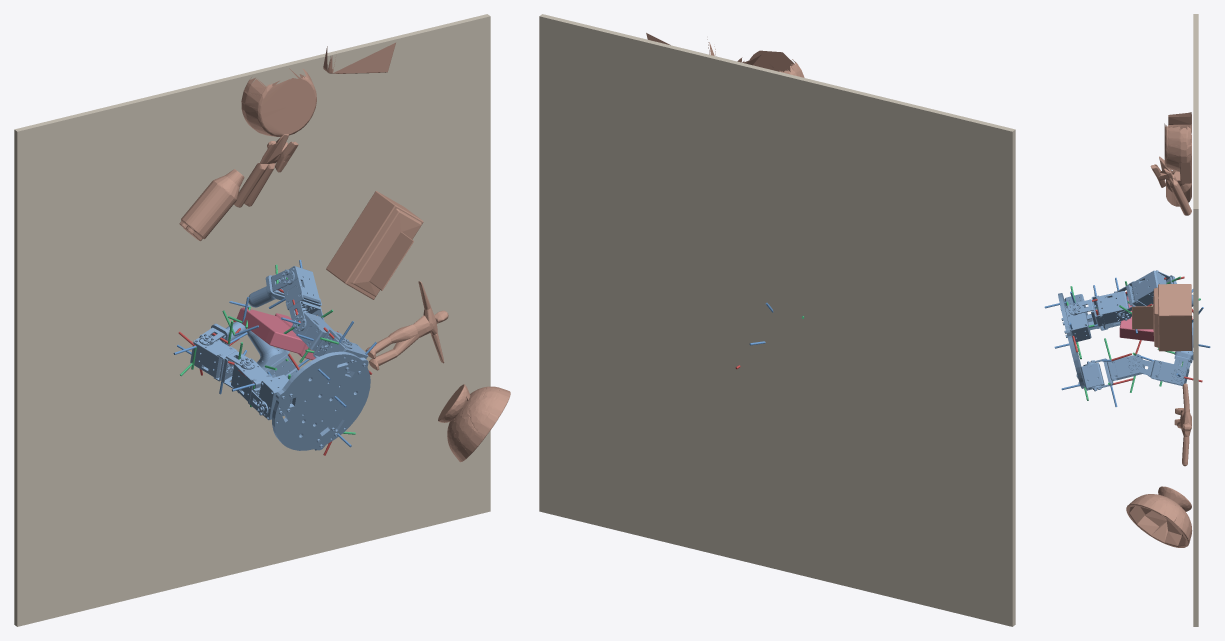
The picture shows the model from 3 angles, left to right: view 1: azimuth 30°, elevation 25°; view 2: azimuth 150°, elevation 25°; view 3: azimuth 270°, elevation 25°; orthographic projection. The views are drawn at different scales.
Visible parts, largest first — view 1: environment, hand, local_object_006, local_object_001, local_object_003, local_object_004, local_object_005, target_object, local_object_002, local_object_000; view 2: environment, local_object_001; view 3: hand, environment, local_object_006, local_object_003, local_object_001, local_object_002, local_object_005, target_object, local_object_004, local_object_000.
Part boxes in pixels (left/top/right/bottom): environment: left=14, top=14, right=490, bottom=626; hand: left=190, top=266, right=370, bottom=450; local_object_006: left=326, top=191, right=423, bottom=299; local_object_001: left=241, top=68, right=316, bottom=136; local_object_003: left=438, top=384, right=510, bottom=462; local_object_004: left=179, top=169, right=244, bottom=241; local_object_005: left=365, top=281, right=448, bottom=370; target_object: left=236, top=307, right=315, bottom=360; local_object_002: left=234, top=134, right=298, bottom=207; local_object_000: left=323, top=42, right=395, bottom=73; environment: left=539, top=14, right=1015, bottom=626; local_object_001: left=737, top=50, right=804, bottom=77; hand: left=1058, top=270, right=1193, bottom=391; environment: left=1193, top=14, right=1198, bottom=626; local_object_006: left=1132, top=284, right=1192, bottom=351; local_object_003: left=1126, top=486, right=1192, bottom=547; local_object_001: left=1164, top=112, right=1191, bottom=171; local_object_002: left=1150, top=156, right=1191, bottom=215; local_object_005: left=1174, top=383, right=1191, bottom=466; target_object: left=1119, top=296, right=1153, bottom=341; local_object_004: left=1166, top=170, right=1191, bottom=206; local_object_000: left=1179, top=151, right=1191, bottom=183.
Size of the model in its own units: 0.703 by 0.7261 by 0.2519.
